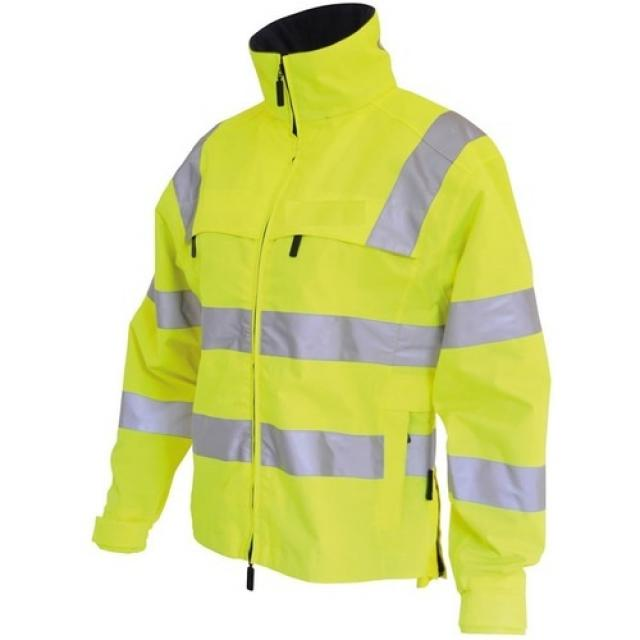Reflective-Jacket: (101, 36, 574, 621)
